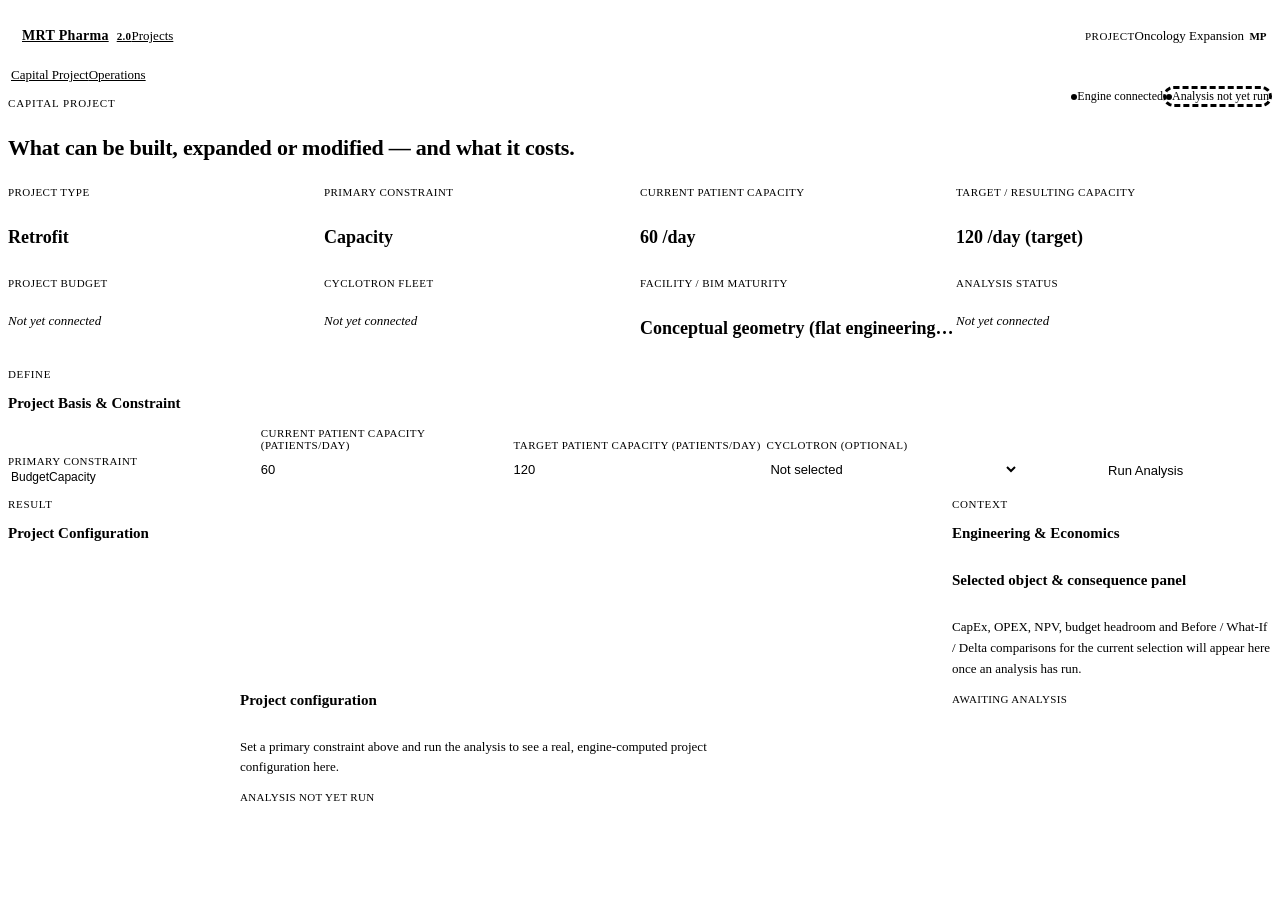
it: Capital Project real engine connection › shows the real engine error detail on failure, never a generic "something went wrong" message
What coordinates should you click on to do the following:
click the button "Run Analysis"
I would click on:
 (1146, 470)
Its box is [1019,454,1272,488].
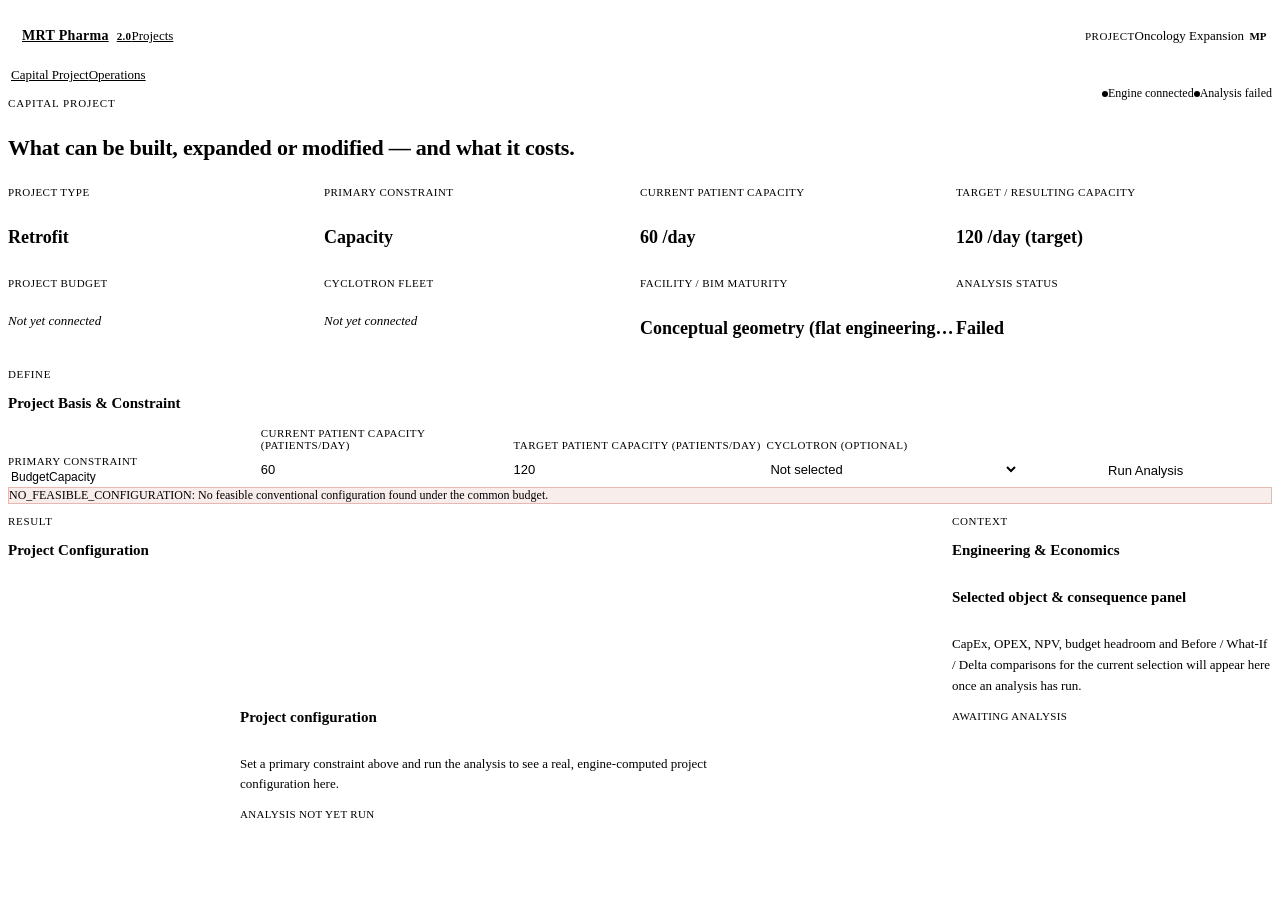
Expected: the text "NO_FEASIBLE_CONFIGURATION" is shown, [9,488,548,502]
